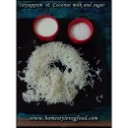idiyappam: (29, 41, 83, 103)
